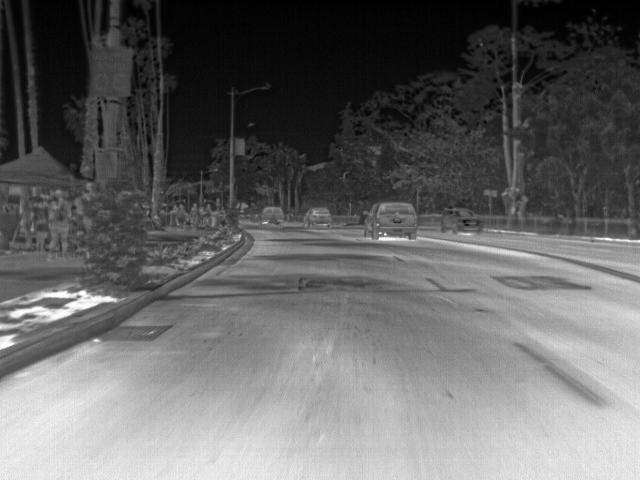car: (360, 201, 418, 238), (439, 207, 484, 234), (303, 208, 333, 229), (259, 205, 286, 227)
person: (45, 186, 75, 255)
